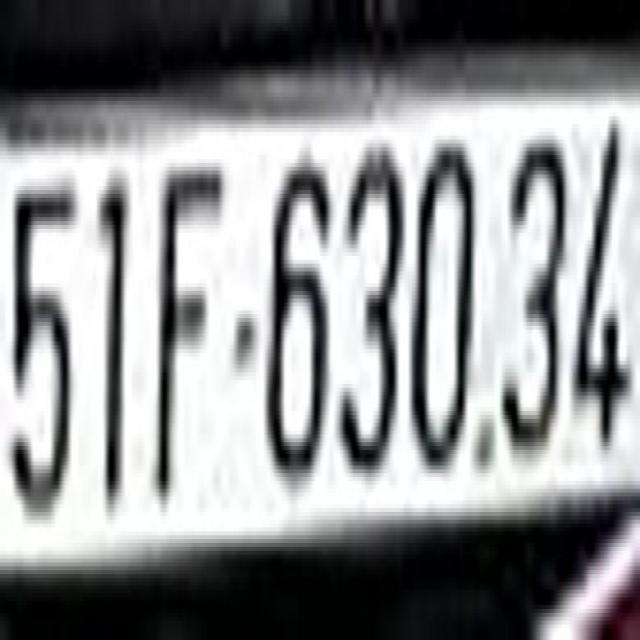0: (413, 136, 473, 488)
1: (98, 182, 126, 516)
3: (338, 128, 401, 485), (500, 124, 560, 462)
4: (574, 108, 636, 450)
5: (16, 166, 72, 508)
6: (265, 143, 329, 520)
F: (154, 144, 223, 492)
